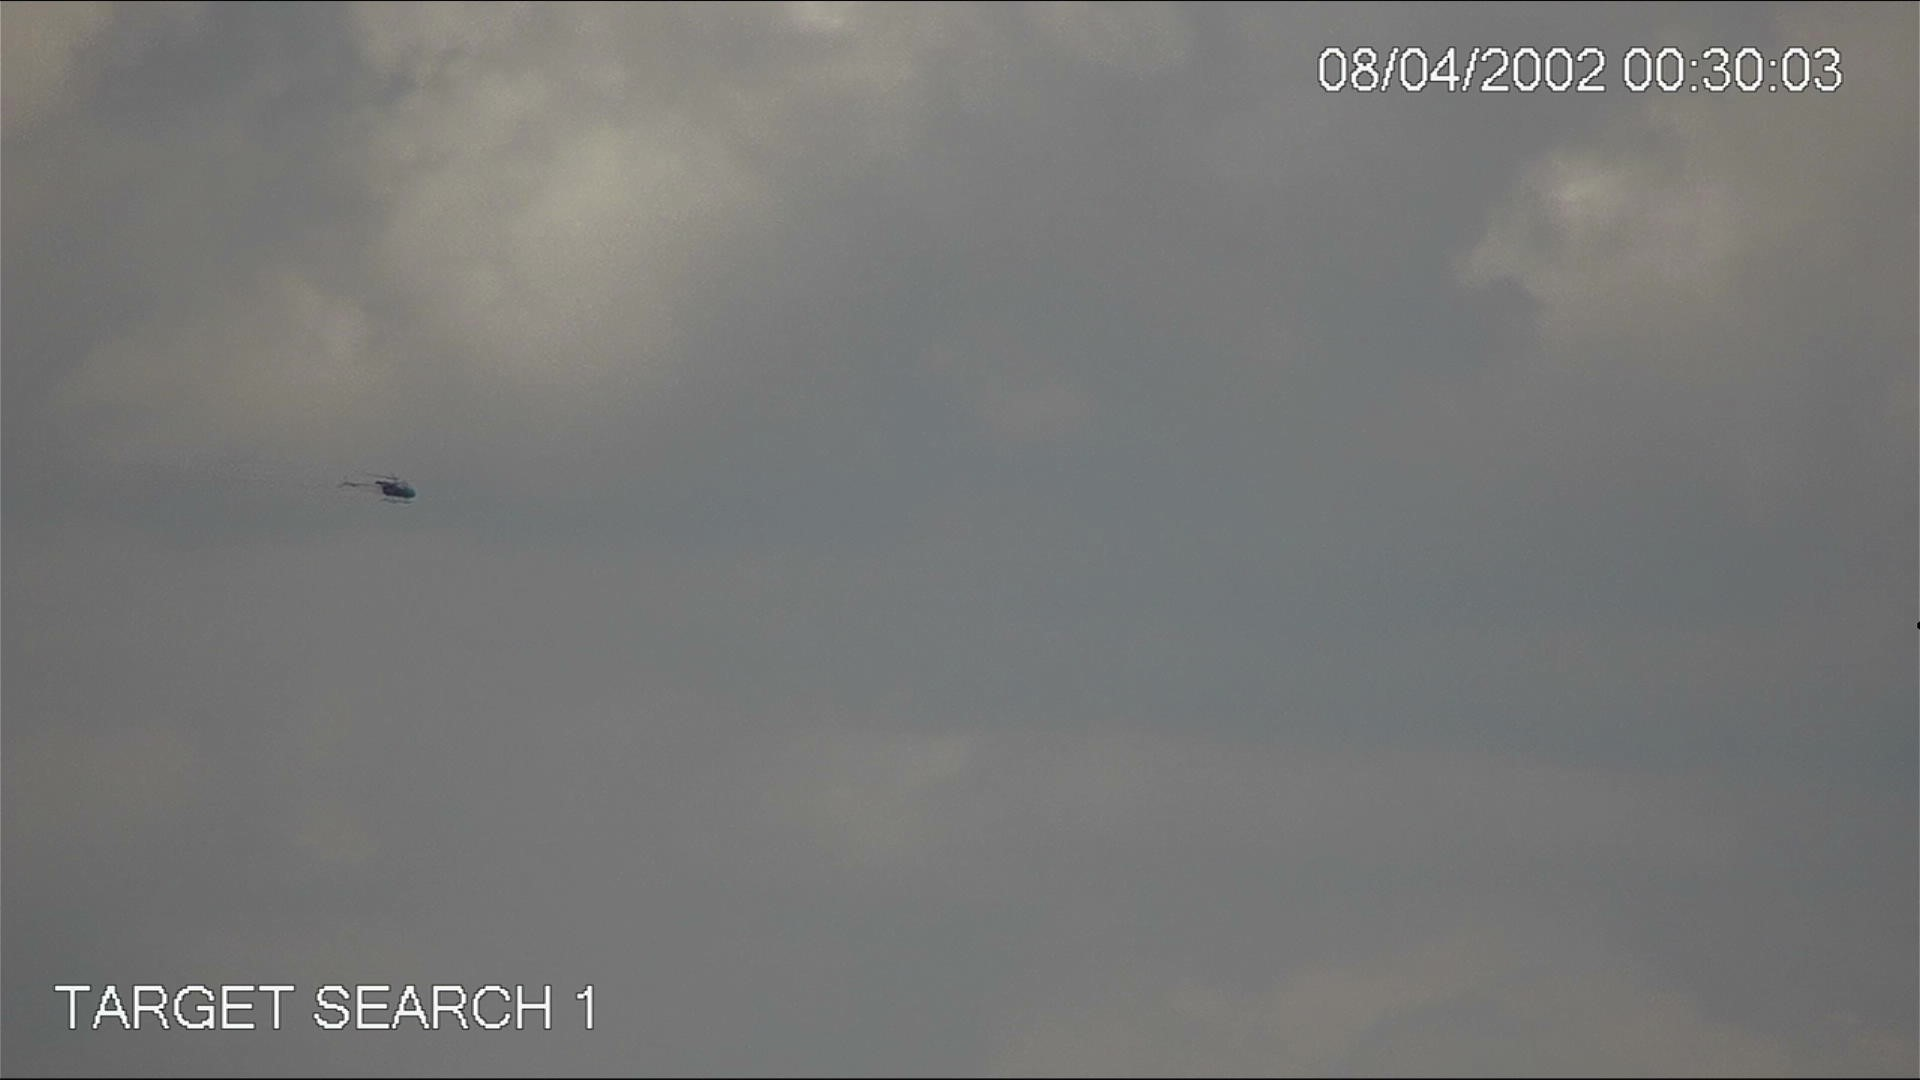SU_30: (335, 467, 433, 514)
